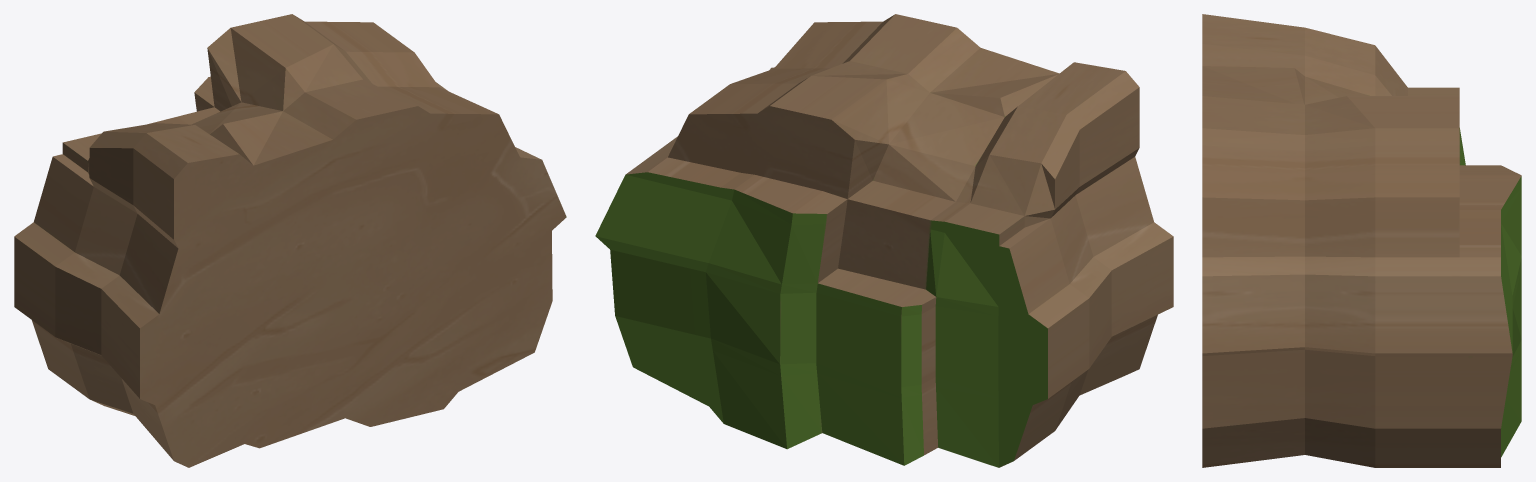
Rendered from mountain-01.obj.
3 renders of one model, left to right at view 1: azimuth 30°, elevation 25°; view 2: azimuth 150°, elevation 25°; view 3: azimuth 270°, elevation 25°, orthographic. The views are drawn at different scales.
Visible parts, largest first — view 1: mountain-01_Plane.187; view 2: mountain-01_Plane.187; view 3: mountain-01_Plane.187.
Part boxes in pixels (left/top/right/bottom): mountain-01_Plane.187: left=14, top=14, right=566, bottom=467; mountain-01_Plane.187: left=595, top=14, right=1173, bottom=467; mountain-01_Plane.187: left=1202, top=14, right=1521, bottom=467.
Size of the model in its own units: 20.24 by 14.08 by 12.82.
